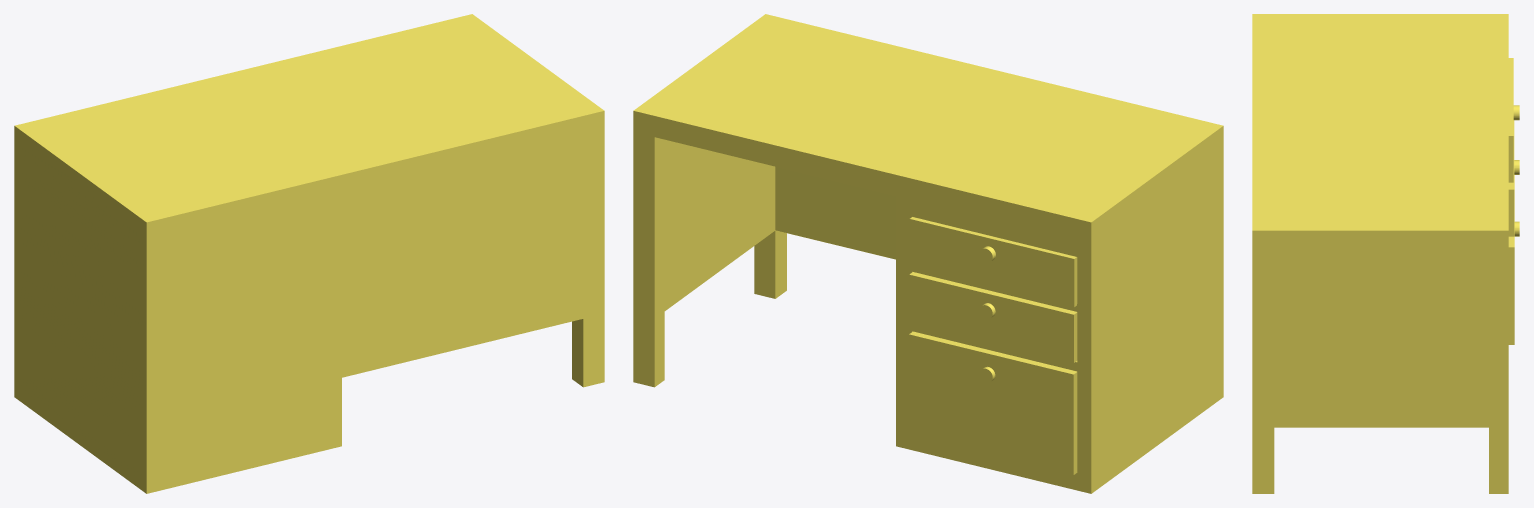
The model's file is table_2024_2.fbx.
The picture shows the model from 3 angles, left to right: view 1: azimuth 30°, elevation 25°; view 2: azimuth 150°, elevation 25°; view 3: azimuth 270°, elevation 25°; orthographic projection. The views are drawn at different scales.
Parts seen in each view (by area): view 1: table; view 2: table, drawer_low, drawer_middle, drawer_top; view 3: table, drawer_low, drawer_top, drawer_middle.
Boxes of the visible parts, x1=… form: table: x1=14, y1=14, x2=604, y2=493; table: x1=633, y1=14, x2=1223, y2=493; drawer_low: x1=909, y1=331, x2=1077, y2=474; drawer_middle: x1=909, y1=272, x2=1077, y2=362; drawer_top: x1=909, y1=217, x2=1077, y2=307; table: x1=1252, y1=14, x2=1508, y2=493; drawer_low: x1=1508, y1=175, x2=1514, y2=344; drawer_top: x1=1508, y1=58, x2=1513, y2=182; drawer_middle: x1=1508, y1=120, x2=1514, y2=236.
Bounding box in the file's own units: 400 × 227 × 209.
